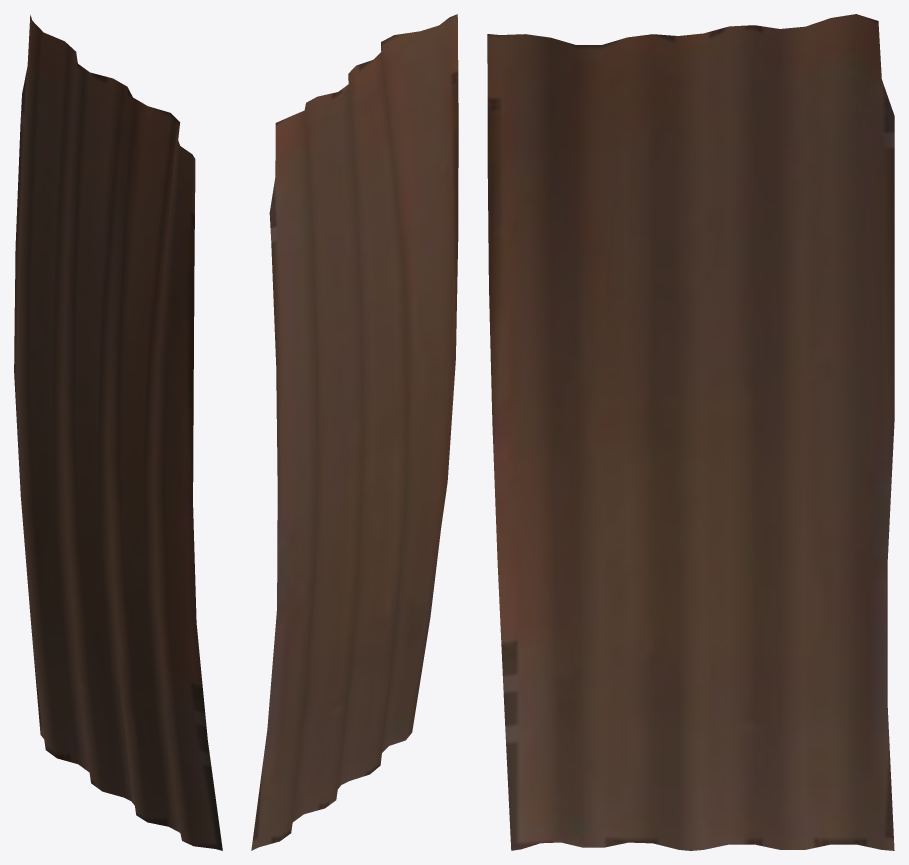
The picture shows the model from 3 angles, left to right: view 1: azimuth 30°, elevation 25°; view 2: azimuth 150°, elevation 25°; view 3: azimuth 270°, elevation 25°; orthographic projection. The views are drawn at different scales.
Parts seen in each view (by area): view 1: body0_model0_lod0_mesh0; view 2: body0_model0_lod0_mesh0; view 3: body0_model0_lod0_mesh0.
Boxes of the visible parts, x1,y1,x2,y2 form: body0_model0_lod0_mesh0: (14,15,222,850); body0_model0_lod0_mesh0: (251,14,458,850); body0_model0_lod0_mesh0: (487,14,894,850).
Size of the model in its own units: 5.1 by 71.39 by 32.
1 material, 1 textured.
